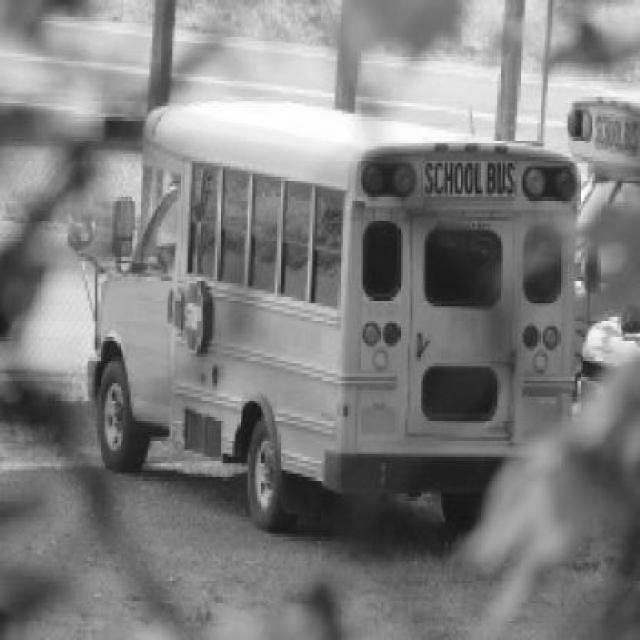Bus- Small: (65, 101, 580, 541)
